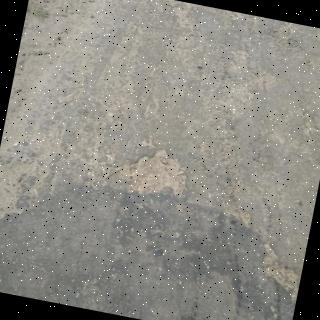pothole: (128, 149, 186, 197)
